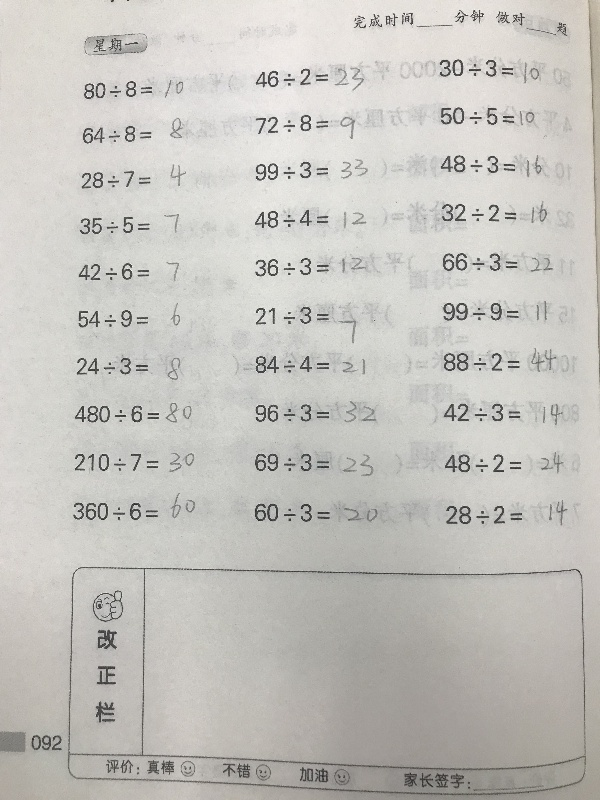equation: (439, 442, 574, 483), (250, 299, 360, 347), (68, 492, 211, 526), (246, 393, 381, 426), (250, 447, 385, 480), (251, 495, 386, 528), (440, 497, 575, 530), (71, 394, 196, 427), (440, 397, 567, 429), (252, 111, 374, 143), (254, 352, 368, 386), (439, 343, 562, 374), (436, 297, 570, 325), (74, 349, 184, 383), (70, 446, 198, 475), (252, 64, 368, 94), (79, 115, 186, 147), (80, 160, 187, 192), (77, 207, 184, 239), (75, 256, 182, 288), (76, 301, 183, 333), (438, 149, 547, 180), (438, 197, 550, 227), (251, 253, 382, 278), (251, 157, 371, 184), (250, 204, 369, 231), (438, 248, 556, 275), (434, 56, 543, 83), (79, 76, 187, 102), (437, 103, 539, 129)
